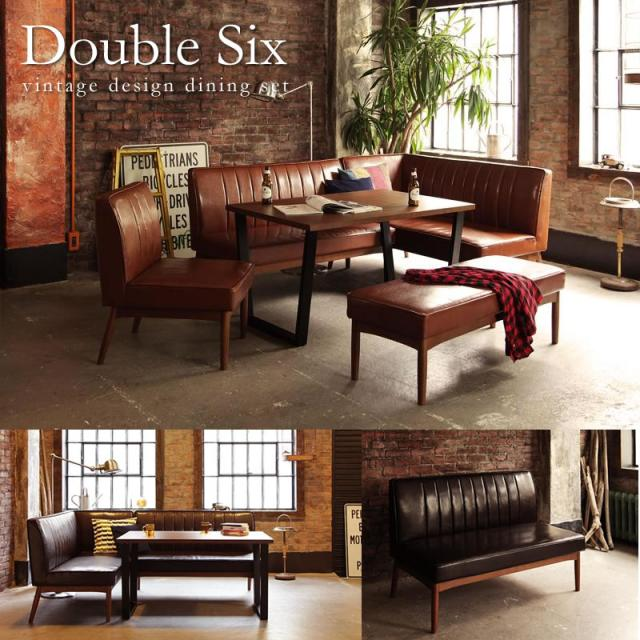vintage chair: (342, 249, 572, 402), (88, 180, 256, 368), (25, 507, 117, 615)
vintage desk: (229, 186, 480, 342), (118, 522, 275, 628)
vintage sofa: (182, 148, 554, 260), (387, 470, 597, 635)
